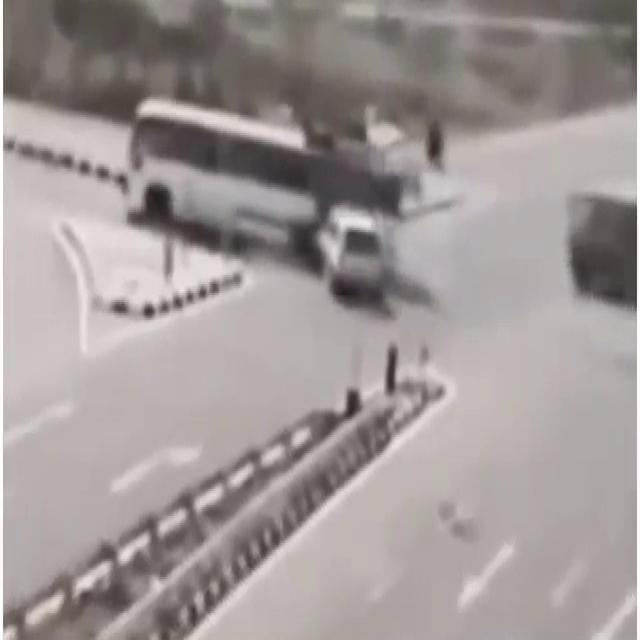accident: (126, 92, 407, 308)
